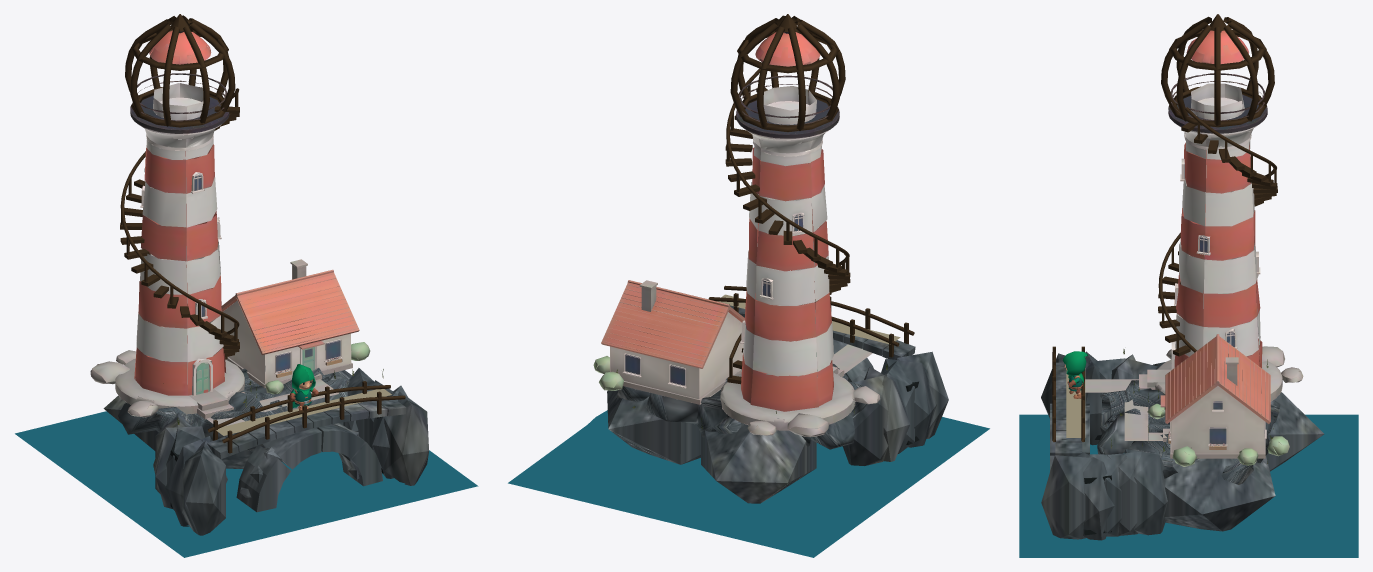
3 views of the same model, side by side, from view 1: azimuth 30°, elevation 25°; view 2: azimuth 150°, elevation 25°; view 3: azimuth 270°, elevation 25° (orthographic). The views are drawn at different scales.
Parts seen in each view (by area): view 1: Lighthouse, RockIsland, Distant coastal scenery, Ocean; view 2: Lighthouse, RockIsland, Distant coastal scenery, Ocean; view 3: RockIsland, Lighthouse, Distant coastal scenery, Ocean.
Part boxes in pixels (x1,y1,x2,y2): Lighthouse: [90, 30, 370, 426]; RockIsland: [103, 14, 428, 535]; Distant coastal scenery: [76, 364, 404, 530]; Ocean: [15, 411, 478, 557]; Lighthouse: [593, 32, 880, 436]; RockIsland: [607, 14, 948, 503]; Distant coastal scenery: [572, 294, 925, 529]; Ocean: [508, 417, 989, 557]; RockIsland: [1041, 14, 1324, 540]; Lighthouse: [1085, 30, 1303, 466]; Distant coastal scenery: [1019, 349, 1358, 556]; Ocean: [1019, 414, 1358, 557].
Size of the model in its own units: 11.7 by 17.21 by 11.7.
2 materials, 2 textured.
